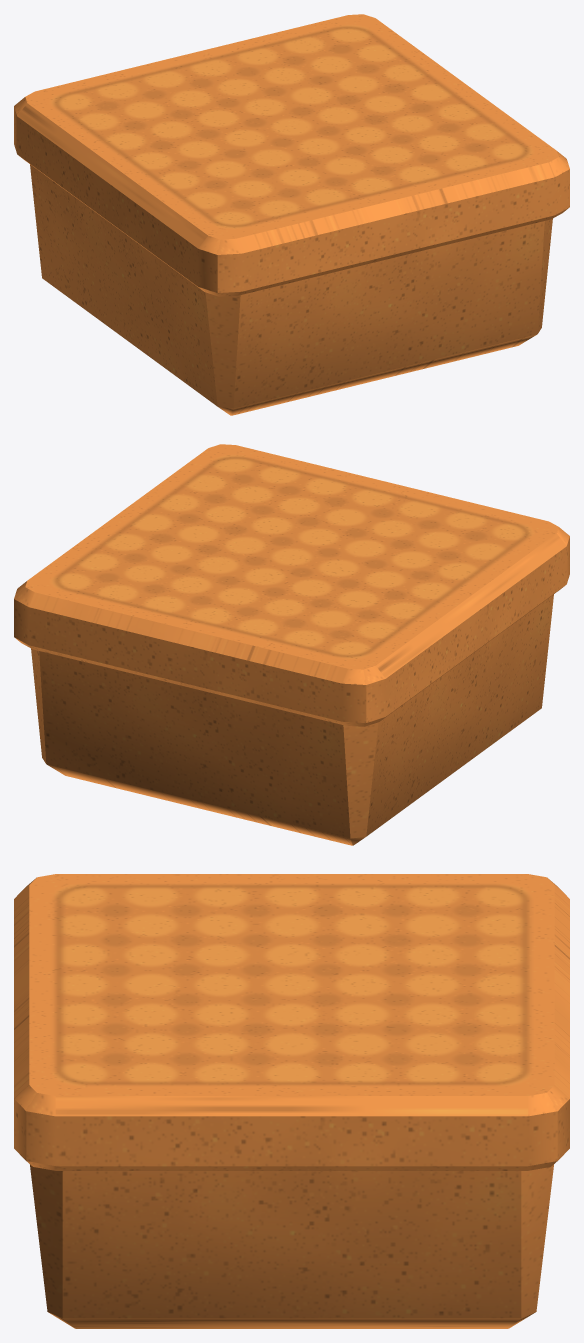
File: reception_foam_crate_lod1.glb
The picture shows the model from 3 angles, top to bottom: view 1: azimuth 30°, elevation 25°; view 2: azimuth 150°, elevation 25°; view 3: azimuth 270°, elevation 25°; orthographic projection. The views are drawn at different scales.
Visible parts, largest first — view 1: reception_foam_crate_LOD1; view 2: reception_foam_crate_LOD1; view 3: reception_foam_crate_LOD1.
Boxes of the visible parts, x1=… form: reception_foam_crate_LOD1: x1=14, y1=14, x2=569, y2=415; reception_foam_crate_LOD1: x1=14, y1=444, x2=569, y2=845; reception_foam_crate_LOD1: x1=14, y1=874, x2=569, y2=1328.
Bounding box in the file's own units: 8 × 4 × 8.
1 material, 1 textured.
